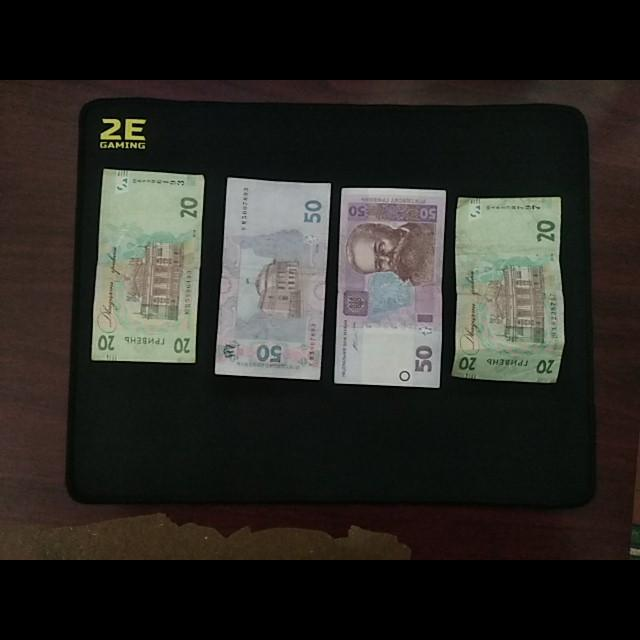20uah: (92, 167, 204, 364), (451, 196, 562, 379)
50uah: (219, 179, 333, 381), (335, 188, 446, 388)
